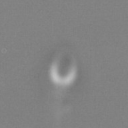normal: (46, 86, 74, 128)
